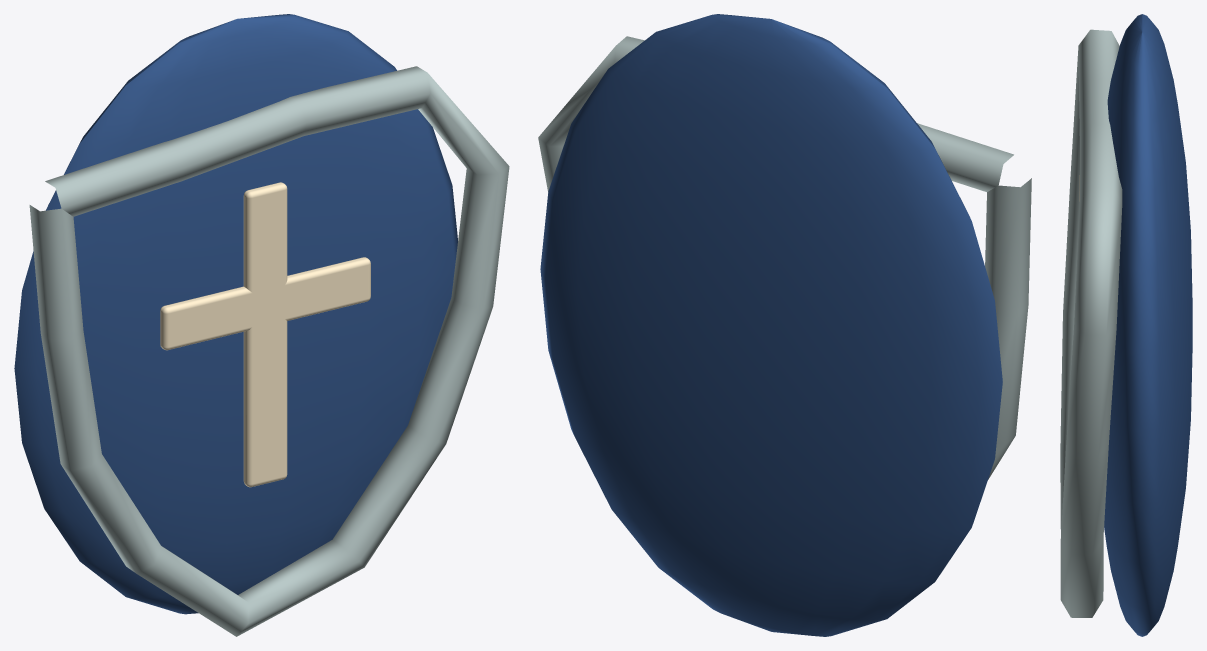
File: bonus-shield-light.glb
3 renders of one model, left to right at view 1: azimuth 30°, elevation 25°; view 2: azimuth 150°, elevation 25°; view 3: azimuth 270°, elevation 25°, orthographic. The views are drawn at different scales.
Visible parts, largest first — view 1: blue, steel, ivory; view 2: blue, steel; view 3: blue, steel.
Boxes of the visible parts, <box> form: blue: <box>14,14,457,614</box>; steel: <box>29,66,509,636</box>; ivory: <box>160,182,370,487</box>; blue: <box>540,14,1002,636</box>; steel: <box>538,36,1031,479</box>; blue: <box>1104,14,1192,636</box>; steel: <box>1060,29,1122,617</box>.
Bounding box in the file's own units: 0.6293 × 0.76 × 0.1554.
